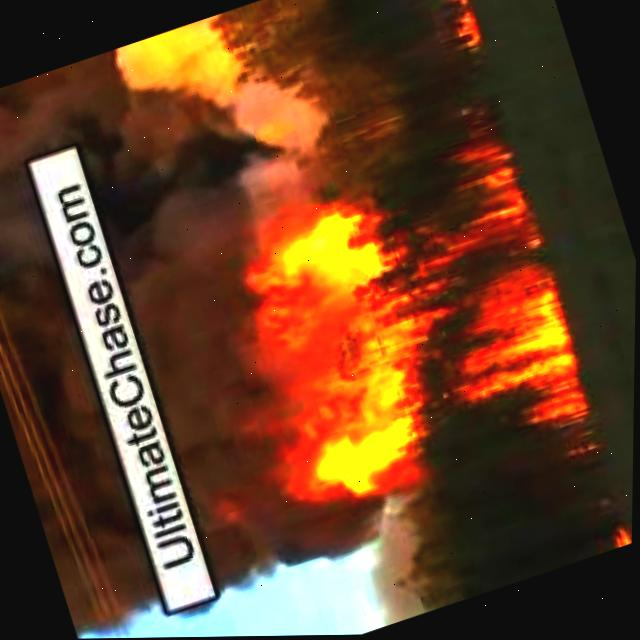Fire: (203, 147, 597, 524), (440, 0, 484, 51), (603, 527, 634, 553)
Smoke: (49, 38, 315, 603), (0, 83, 180, 640), (151, 7, 360, 233)
